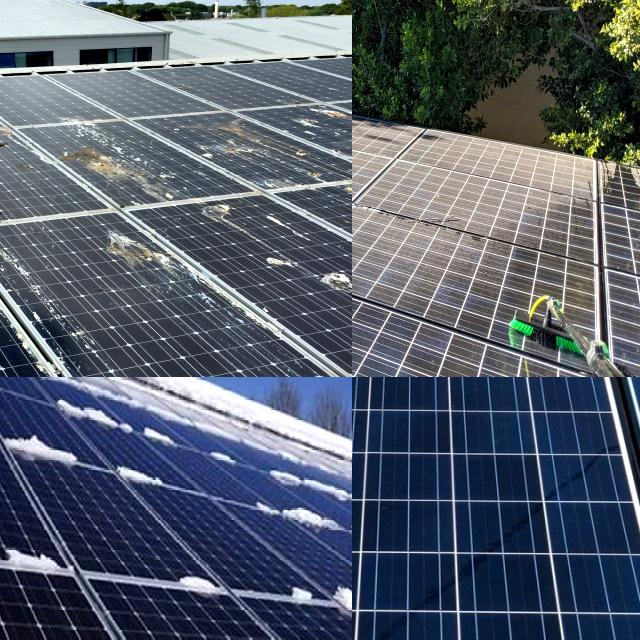bird: (72, 118, 195, 212), (88, 214, 189, 290), (213, 101, 331, 157), (259, 247, 352, 318), (0, 142, 41, 245), (0, 244, 47, 326), (0, 158, 28, 232), (0, 340, 27, 360)
crack: (352, 377, 640, 640), (352, 377, 640, 461), (352, 377, 478, 443)
dust: (352, 186, 458, 316), (466, 144, 600, 245), (352, 157, 439, 281), (352, 115, 411, 210), (352, 119, 422, 173), (352, 87, 424, 137)
panel: (205, 424, 352, 484), (0, 377, 161, 419), (0, 518, 68, 598), (267, 504, 352, 567), (2, 431, 86, 472), (170, 554, 228, 600), (111, 457, 173, 493), (330, 562, 352, 625), (0, 377, 46, 405), (296, 576, 319, 612)
